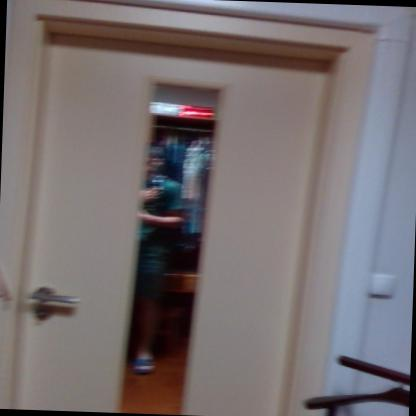closed: (19, 6, 354, 415)
